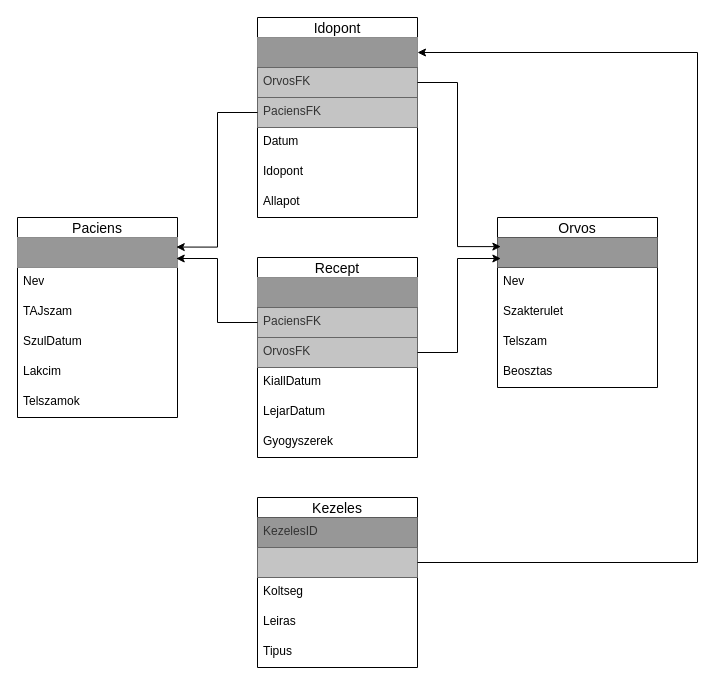
The diagram is 723 pixels wide and 688 high, and some of its shapes have lost their labels. The shapes that lost their labels are listed below. From the top down, each one's box as (x1, y1, x2, y2) in pixels, then its label:
(256, 36, 418, 68): IdopontID
(16, 236, 178, 268): PaciensID
(496, 236, 658, 268): OrvosID
(256, 276, 418, 308): ReceptID
(256, 546, 418, 578): IdopontFK
